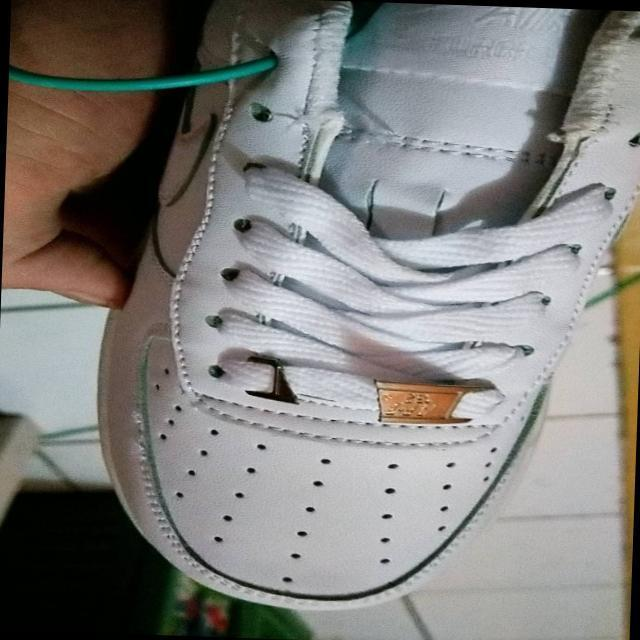nike fake air force: (89, 0, 640, 626)
